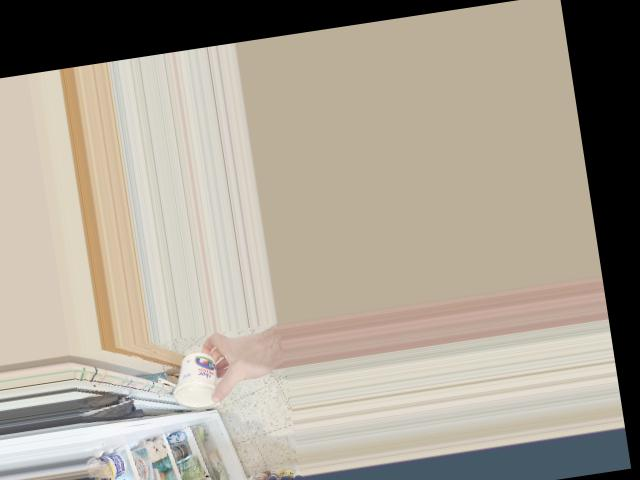cotage: (166, 346, 229, 413)
